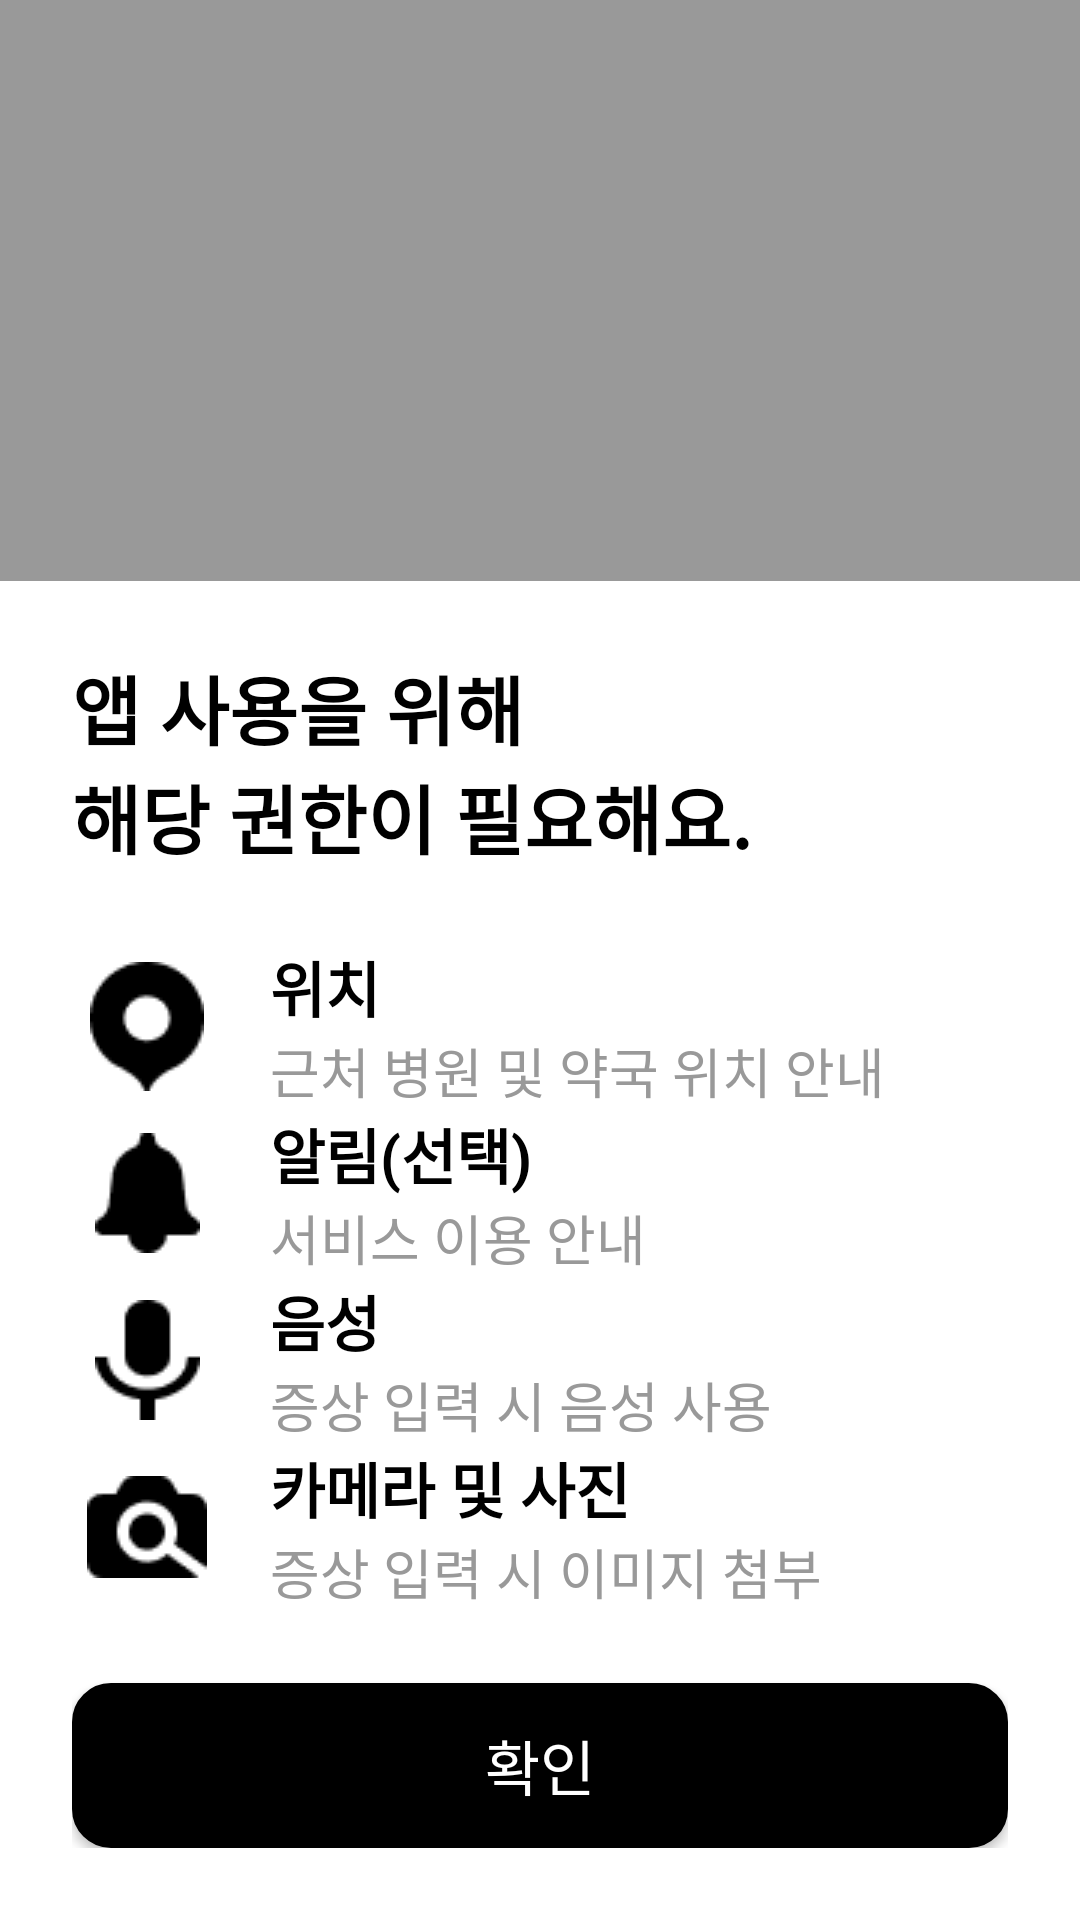

Where to tap for icons on this 1080 x 1920 app screen, as (x=x, y=y):
알림 권한: (x=147, y=1193)
카메라 권한: (x=147, y=1527)
